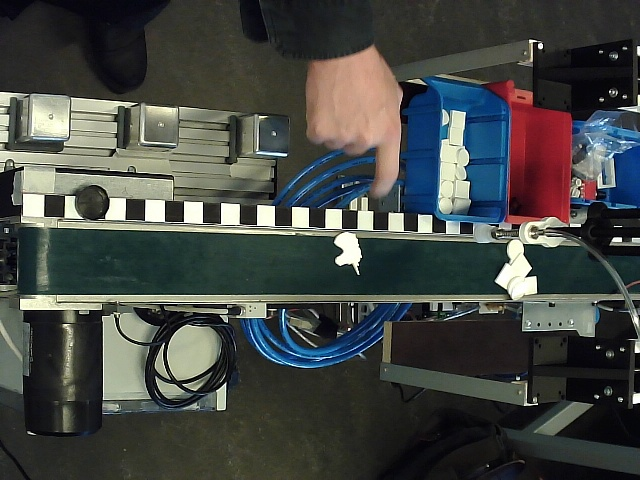unicorn: (333, 231, 363, 276)
